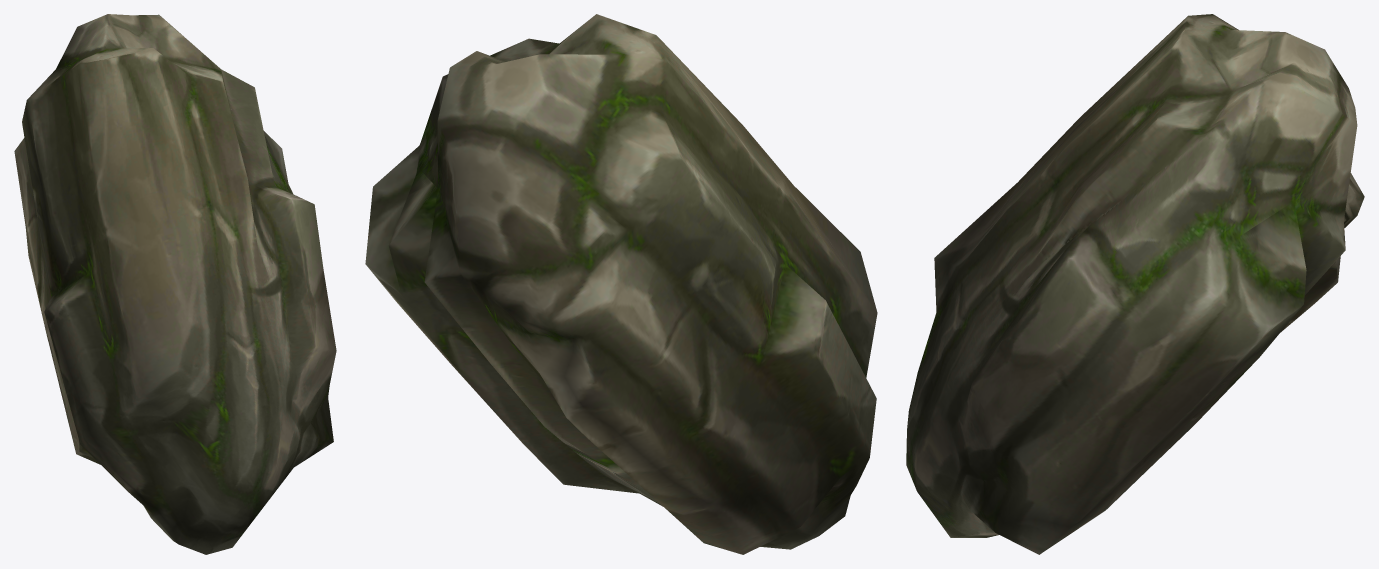
The model's file is RockFormation_4_2 (14).fbx.
The picture shows the model from 3 angles, left to right: view 1: azimuth 30°, elevation 25°; view 2: azimuth 150°, elevation 25°; view 3: azimuth 270°, elevation 25°; orthographic projection. The views are drawn at different scales.
Parts seen in each view (by area): view 1: RockFormation_4_2 (14); view 2: RockFormation_4_2 (14); view 3: RockFormation_4_2 (14).
Part boxes in pixels (bbox=[...]): RockFormation_4_2 (14): bbox=[14, 14, 336, 554]; RockFormation_4_2 (14): bbox=[365, 14, 877, 554]; RockFormation_4_2 (14): bbox=[906, 14, 1364, 554].
Size of the model in its own units: 131 by 196 by 158.
Materials: 1 (1 with a texture image).
